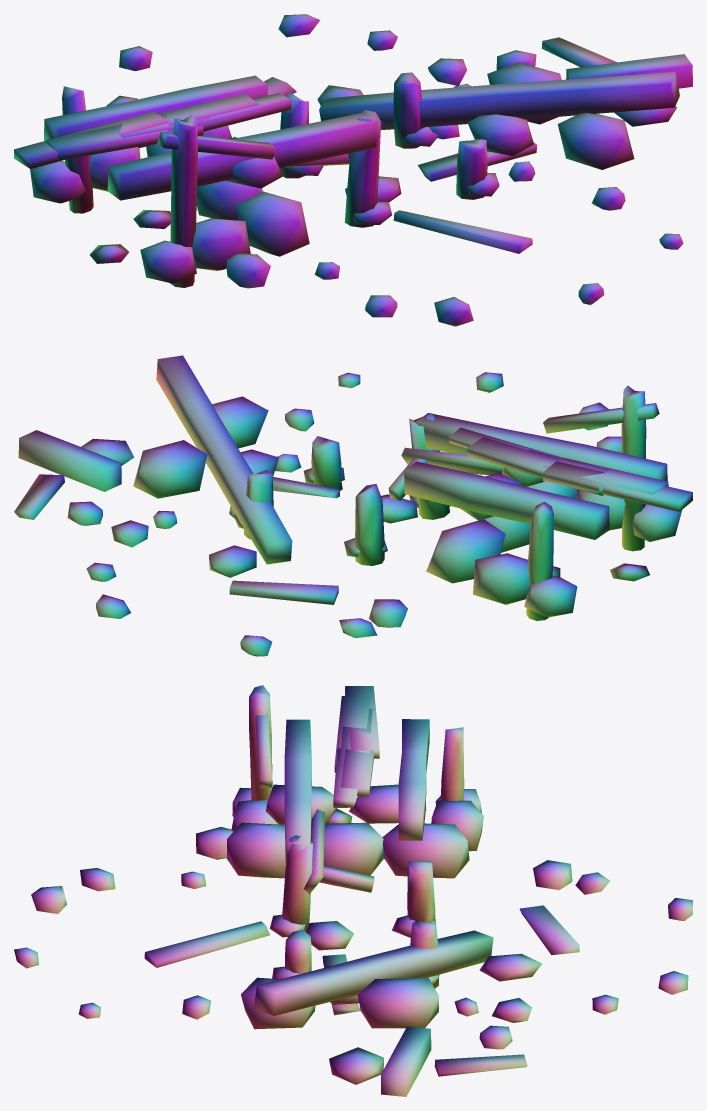
The model's file is SM_Prop_March_BurnedBridge_LOD1.fbx.
3 views of the same model, one above another, from view 1: azimuth 30°, elevation 25°; view 2: azimuth 150°, elevation 25°; view 3: azimuth 270°, elevation 25° (orthographic). The views are drawn at different scales.
Visible parts, largest first — view 1: SM_Prop_March_BurnedBridge_LOD1; view 2: SM_Prop_March_BurnedBridge_LOD1; view 3: SM_Prop_March_BurnedBridge_LOD1.
Part boxes in pixels (x1,y1,x2,y2): SM_Prop_March_BurnedBridge_LOD1: [14, 14, 692, 326]; SM_Prop_March_BurnedBridge_LOD1: [14, 355, 692, 656]; SM_Prop_March_BurnedBridge_LOD1: [14, 685, 692, 1096].
Size of the model in its own units: 5.02 by 1.17 by 4.62.
